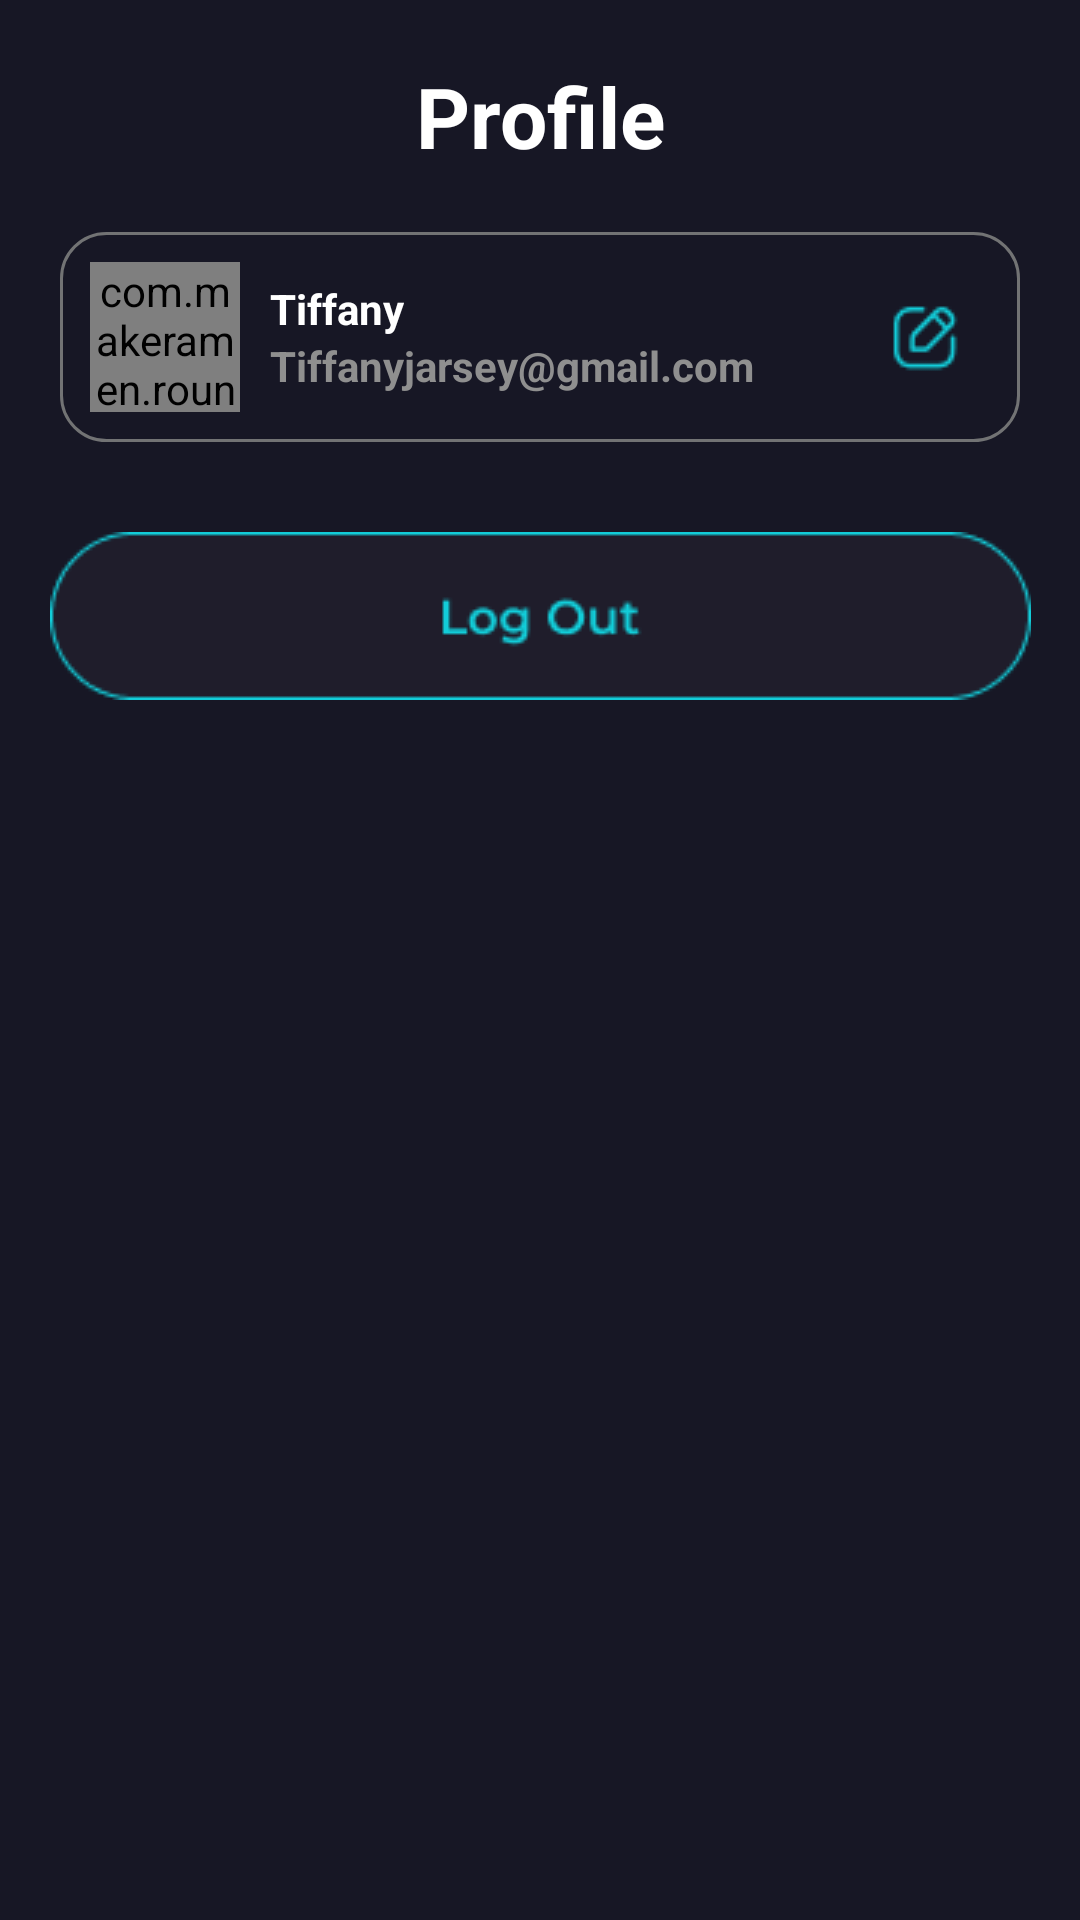

Where icons sit on this 1080*1920 app screen, as [left=x1, top=y1, right=x2, bottom=y2]:
edit: [left=893, top=306, right=957, bottom=370]
